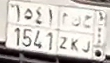1: (10, 3, 22, 49), (43, 7, 55, 51)
4: (33, 5, 44, 50)
5: (21, 7, 33, 49)
J: (80, 13, 92, 54)
K: (68, 12, 82, 53)
Z: (58, 9, 70, 52)
